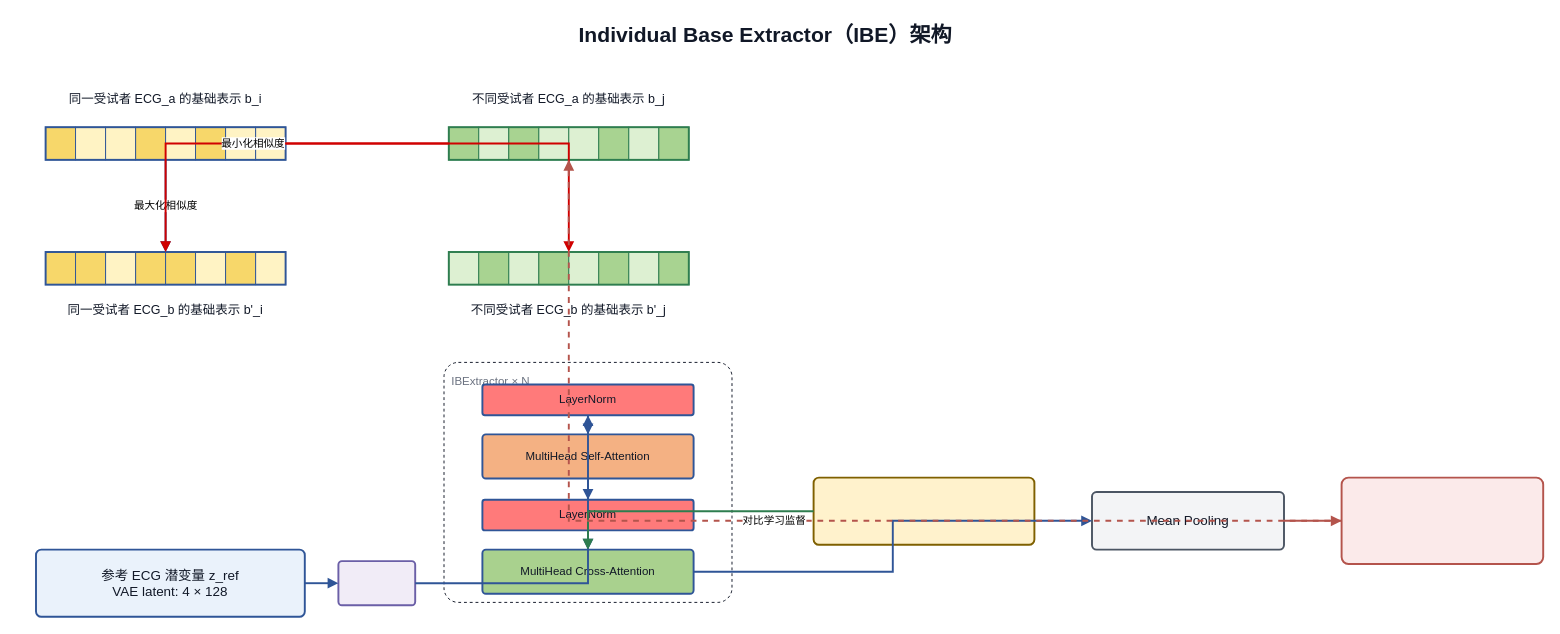
Some shapes in this 1560 by 634 pixel diagram are drawn without their labels. Here are the shapes that lost their labels. From the top down, the centre of each, then its label:
the point at 923,510: 参考心电条件 报告文本 + 患者信息
the point at 1442,520: 个体基础表示 base vector b 256 维
the point at 376,583: RoPE
